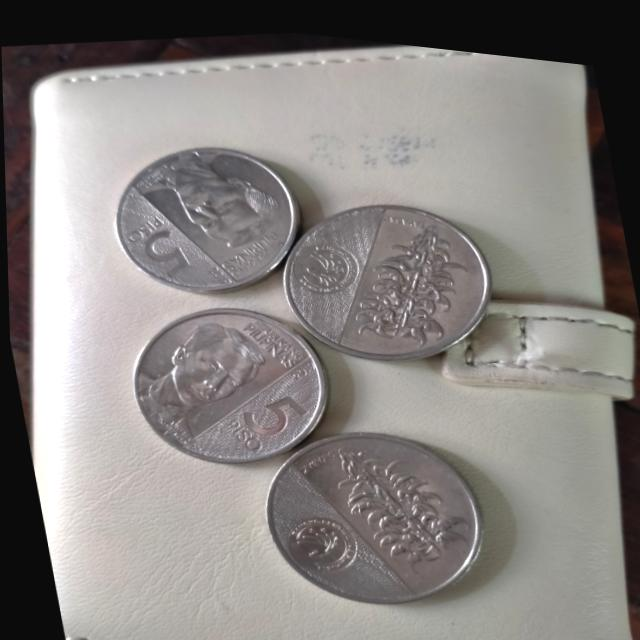5_New_Back: (325, 184, 485, 358), (312, 403, 466, 574)
5_New_Front: (209, 368, 321, 462), (110, 198, 190, 283)
